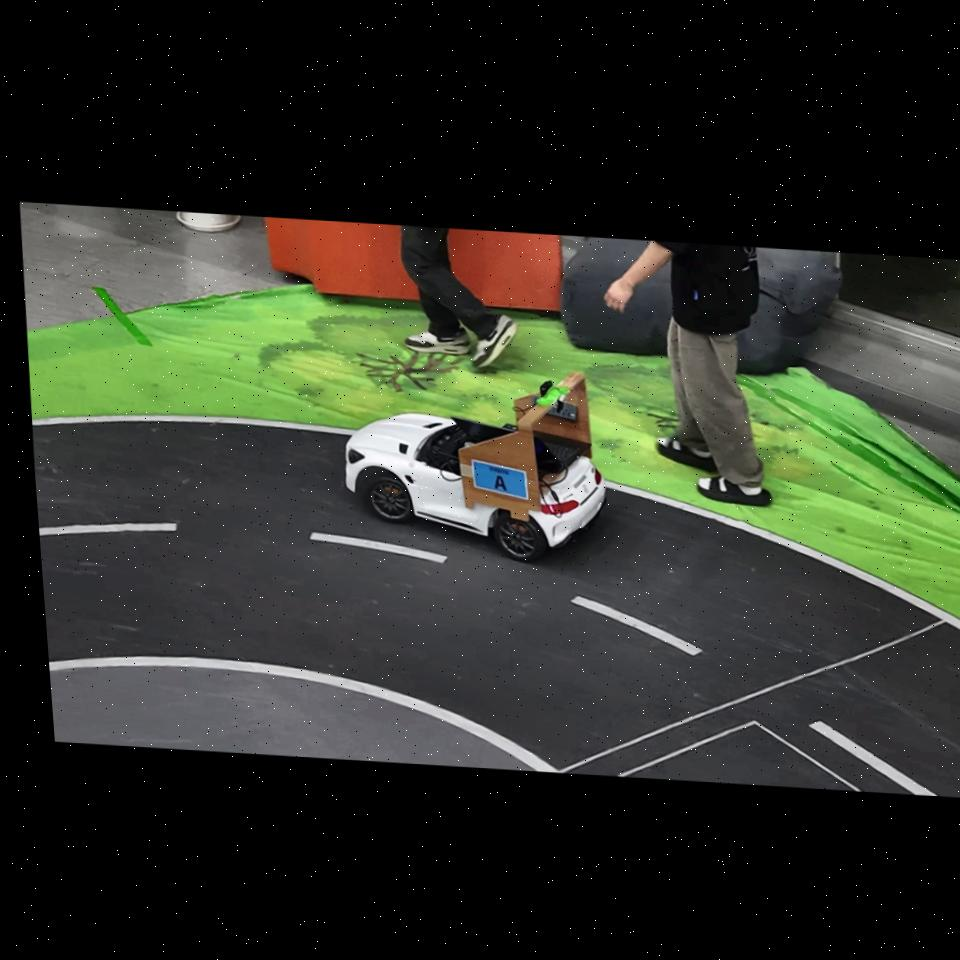broken_line: (809, 721, 937, 796), (571, 596, 703, 656), (310, 532, 446, 563), (39, 523, 177, 536)
